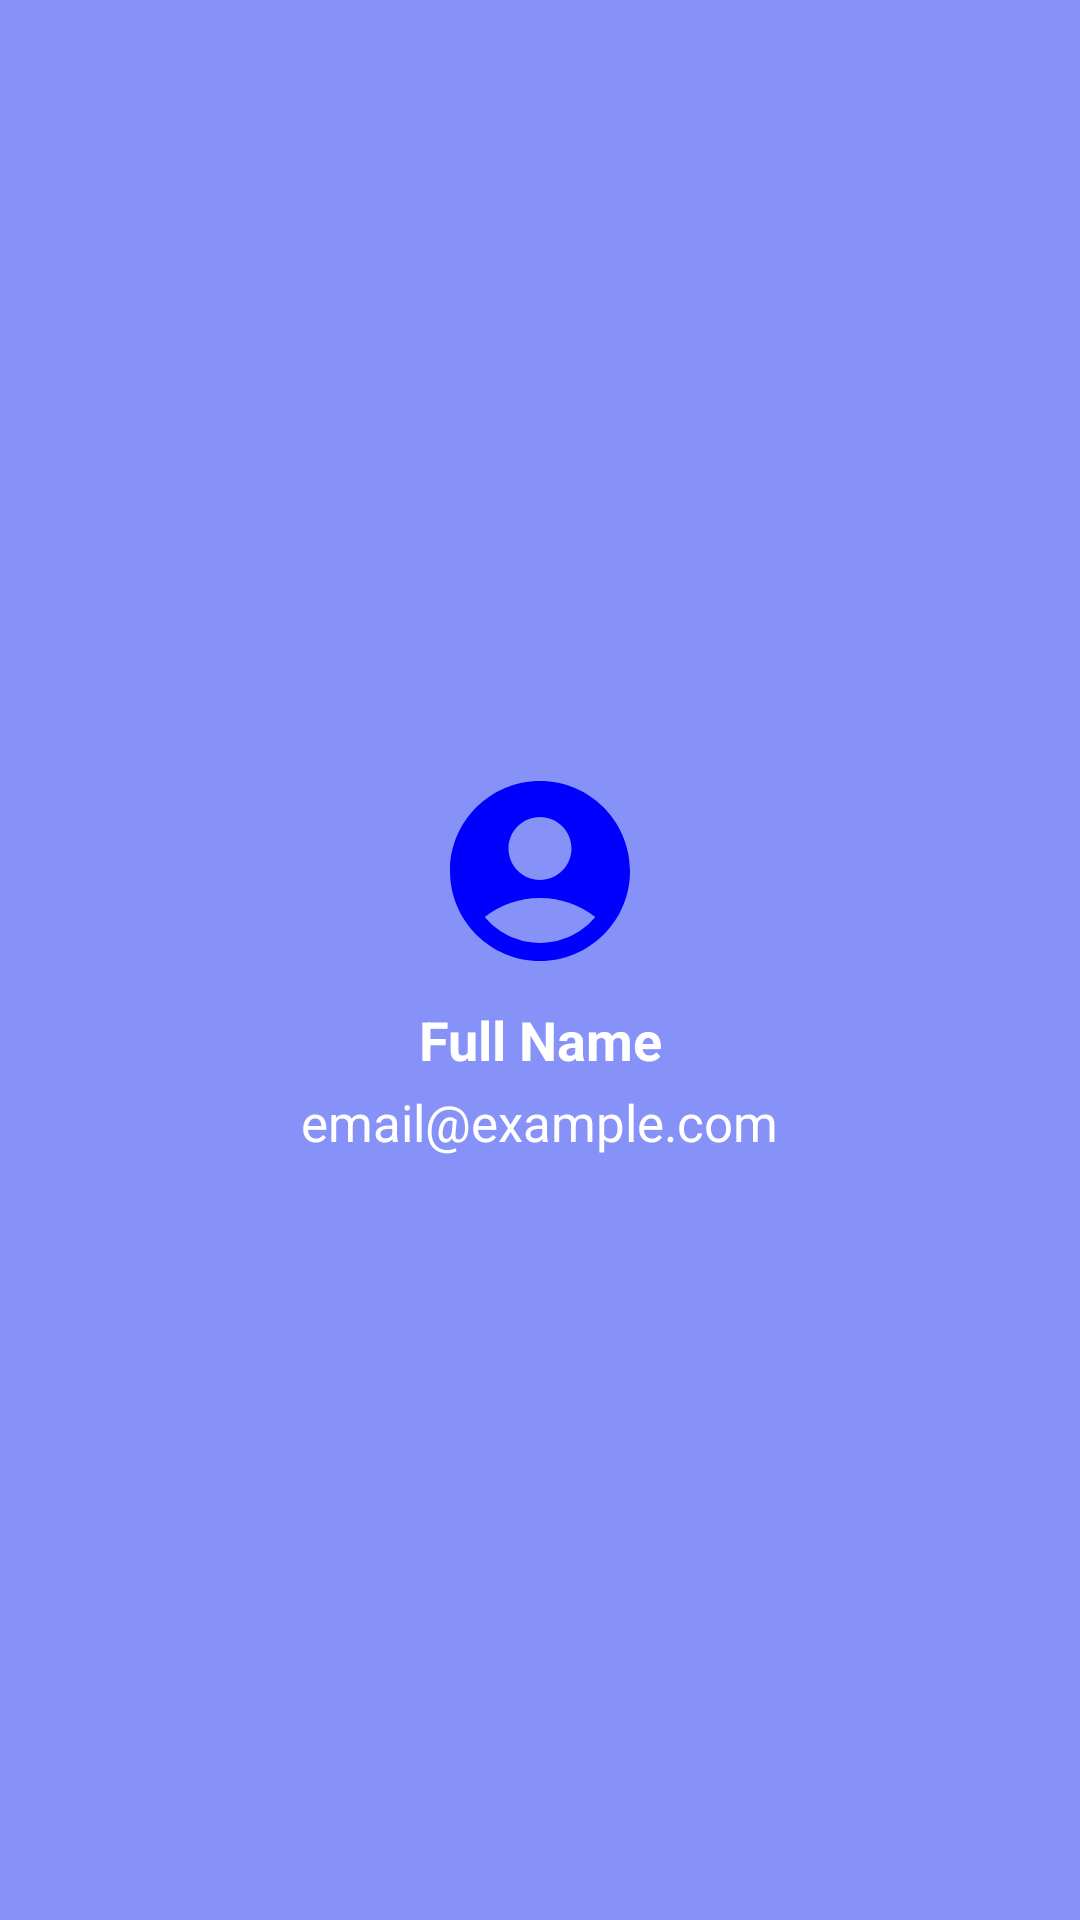

Named icons in this screenshot (1080 x 1920) and their centers, point (x, y):
profile: point (540, 871)
